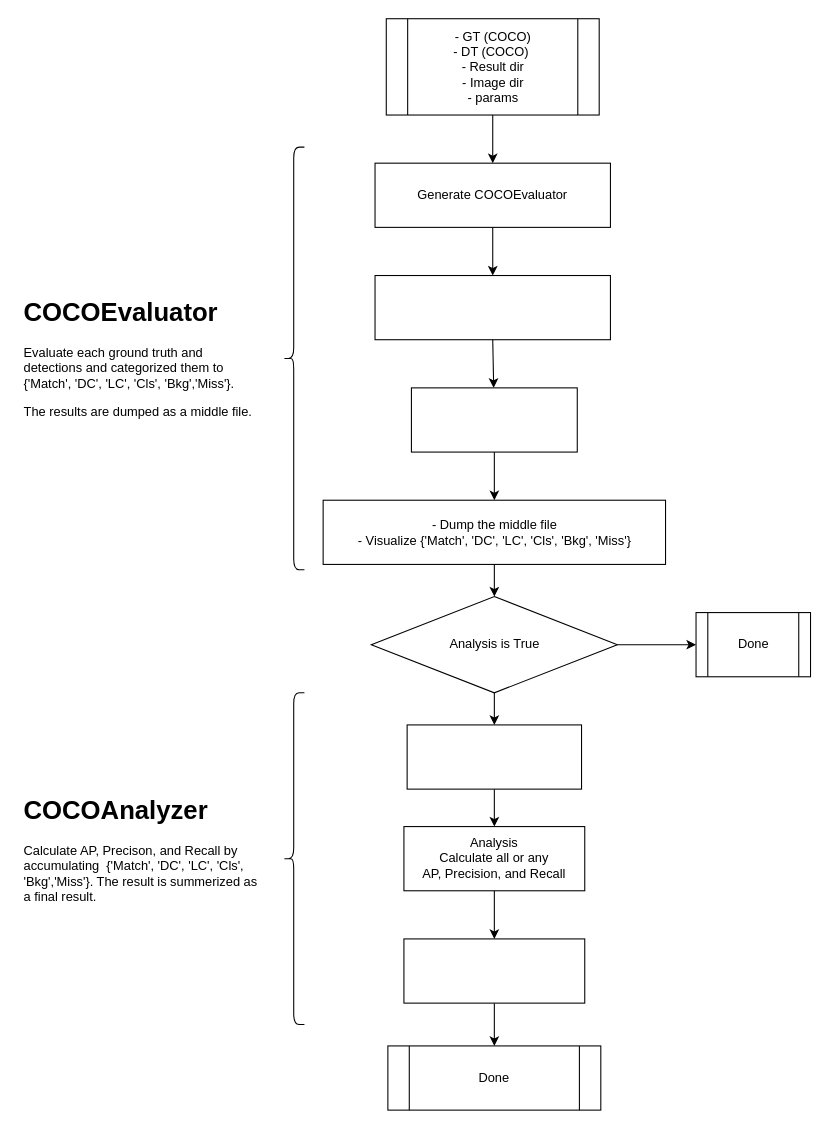
The diagram is 829 pixels wide and 1129 high, and some of its shapes have lost their labels. The shapes that lost their labels are listed below. From the top down, each one's centre as x and y in pixels, then its label:
At (492,307): "Evaluate GT and DT assigning them to {'Match', 'DC', 'LC', 'Cls', 'Bkg', 'Miss'}".
At (493,419): "Generate a middle file".
At (494,756): "Generate COCOAnalyzer with the middle file".
At (494,970): "Dump the final result".
